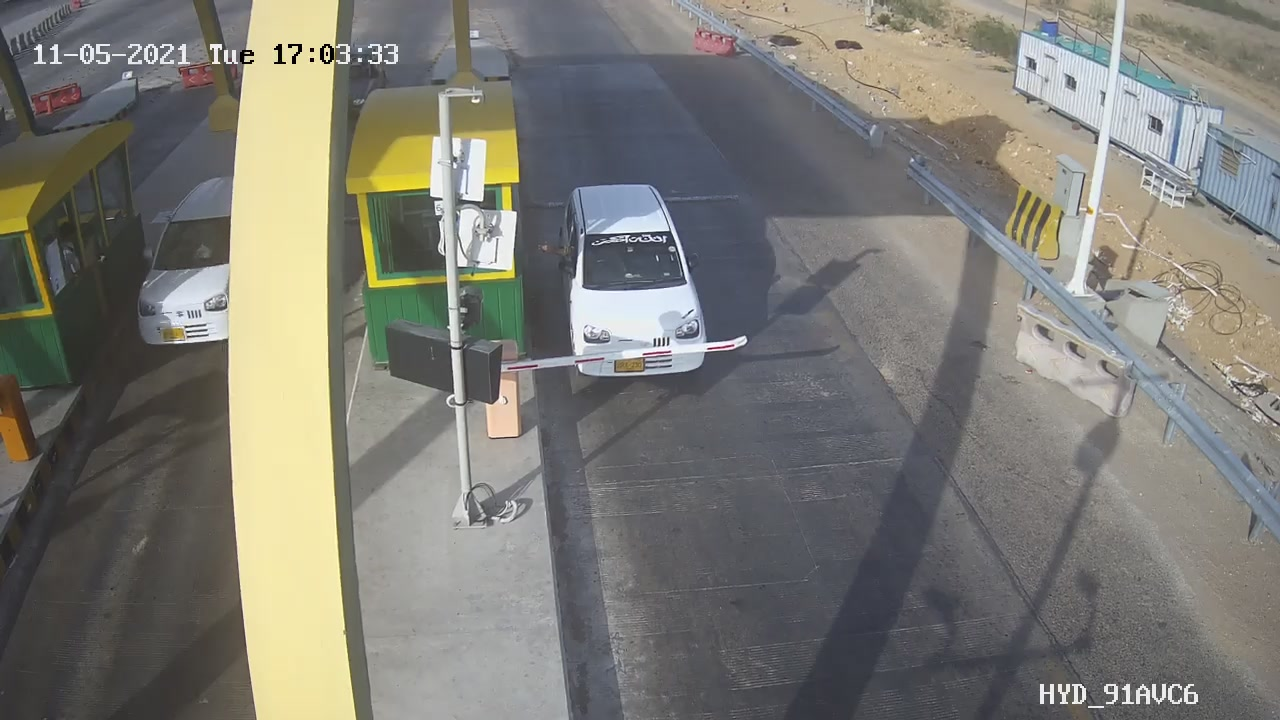F1: (542, 168, 722, 396)
